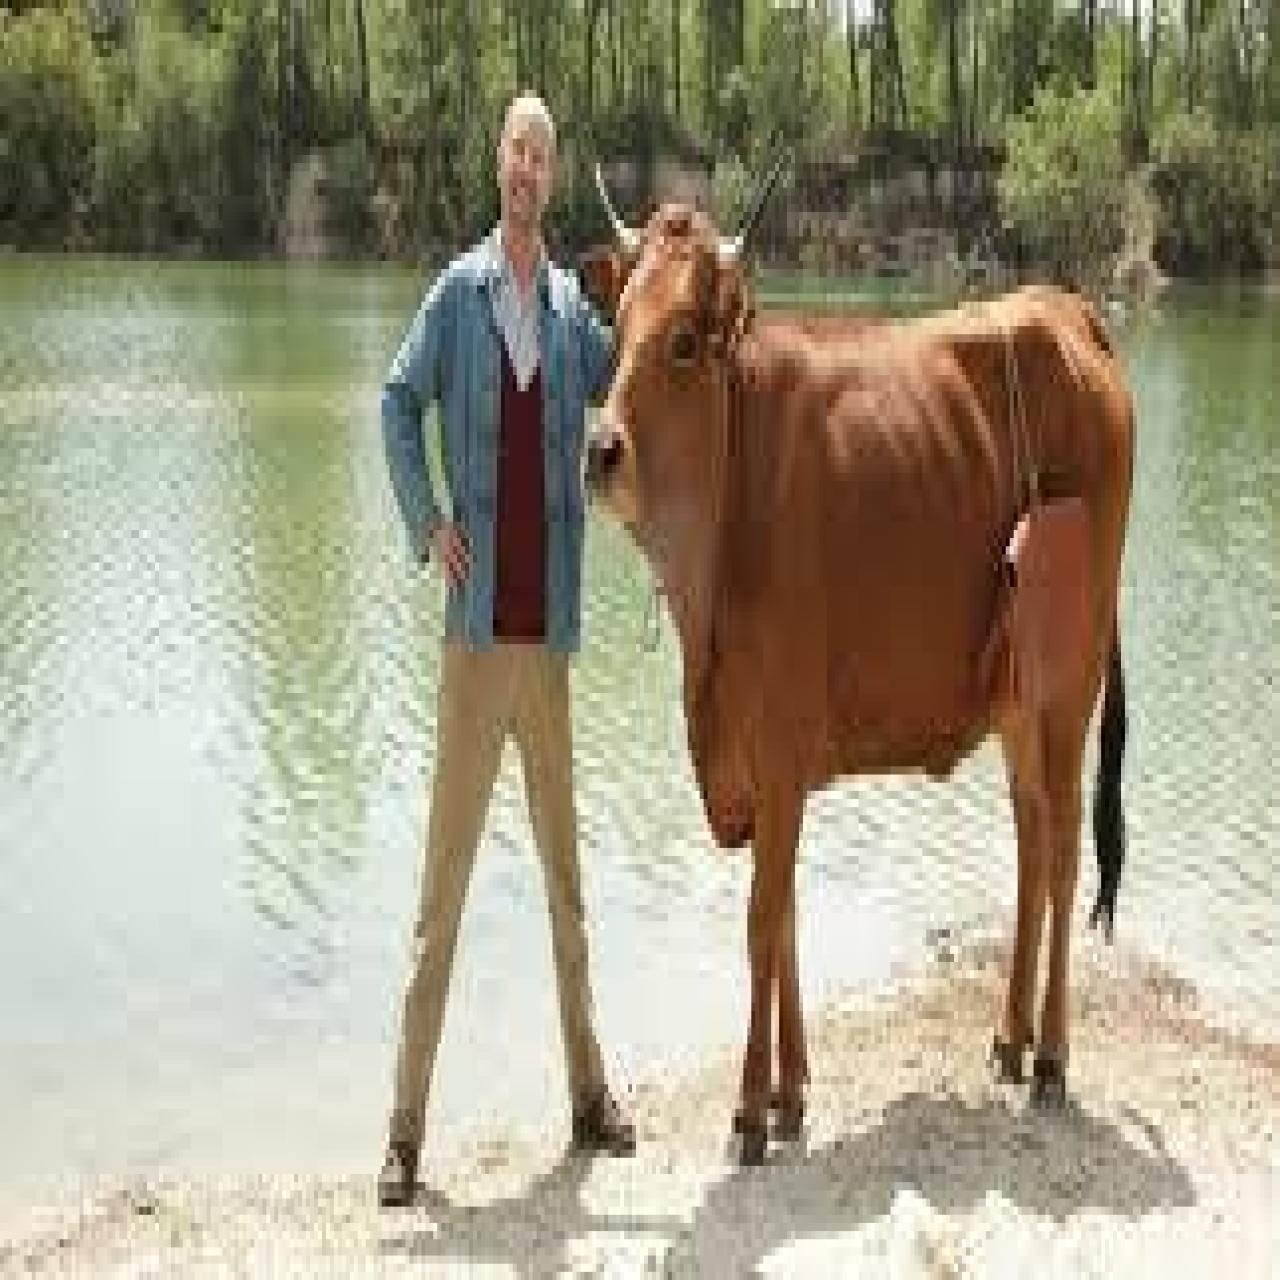cow: (583, 163, 1135, 1158)
